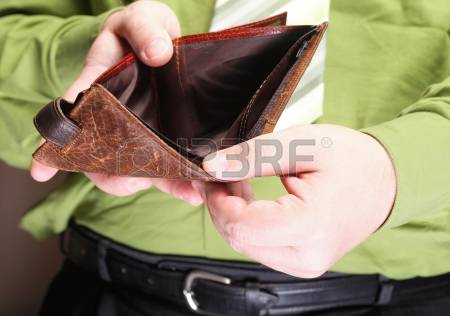monedero: (29, 11, 329, 184)
